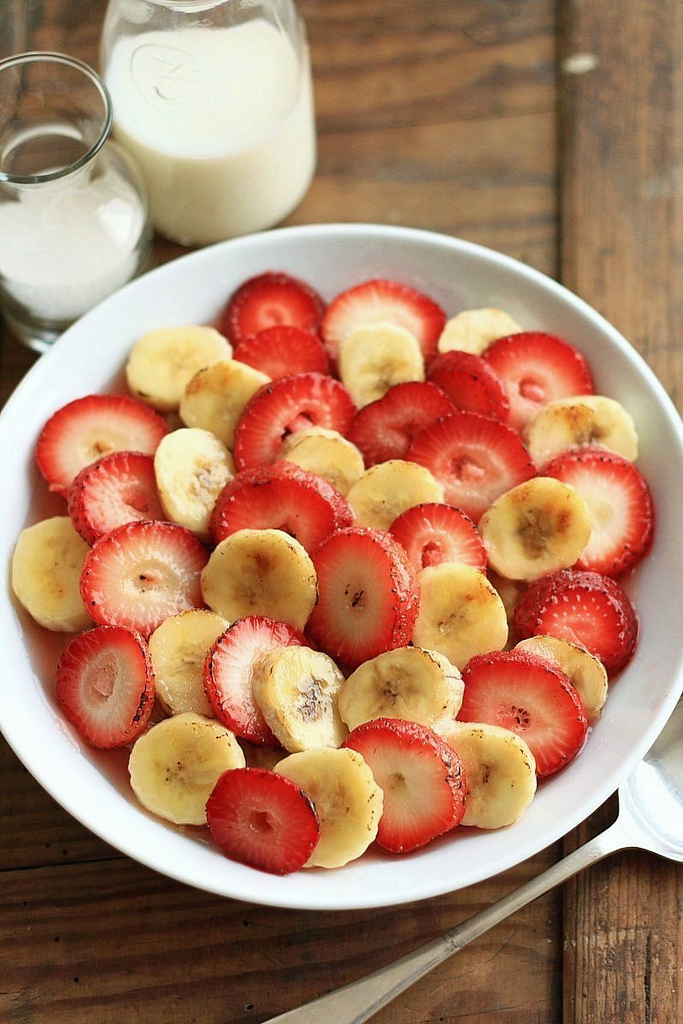glass of milk: (103, 6, 334, 248), (3, 63, 142, 346)
